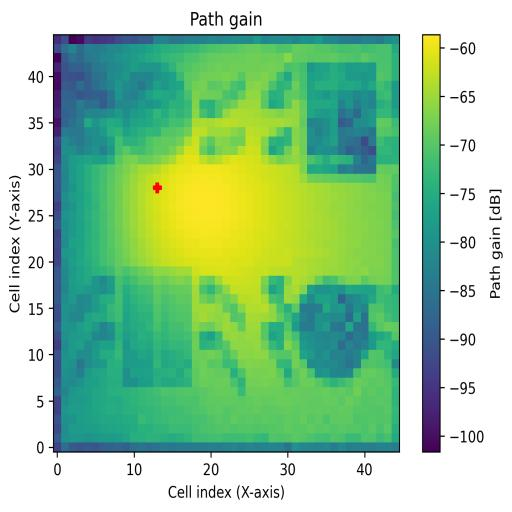Concrete: (302, 62, 376, 183)
Glass: (83, 44, 192, 166)
Metal: (292, 276, 378, 378)
Wood: (122, 265, 192, 388)
